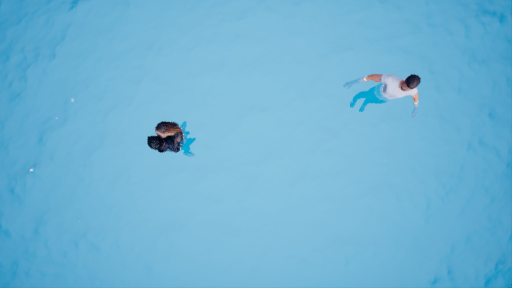person: (336, 68, 425, 119), (140, 119, 198, 161)
